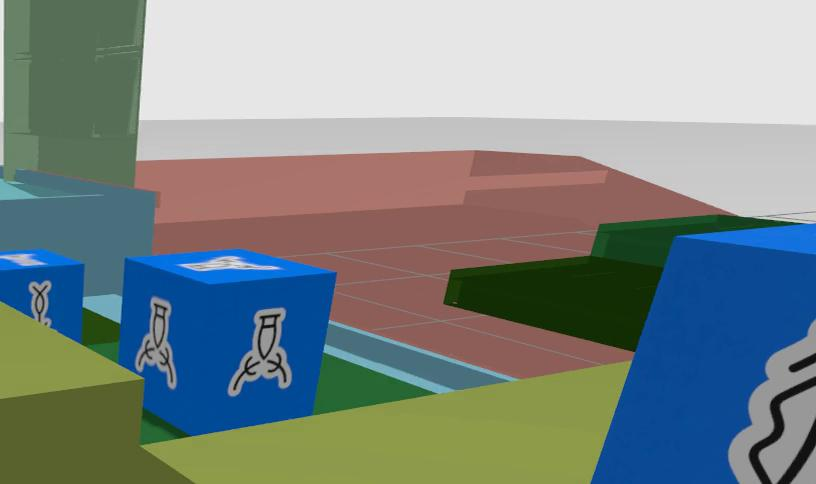KFS_REAL: (590, 224, 815, 484), (118, 248, 334, 433), (728, 321, 815, 484), (0, 250, 82, 341), (229, 310, 291, 395), (134, 297, 175, 389)
